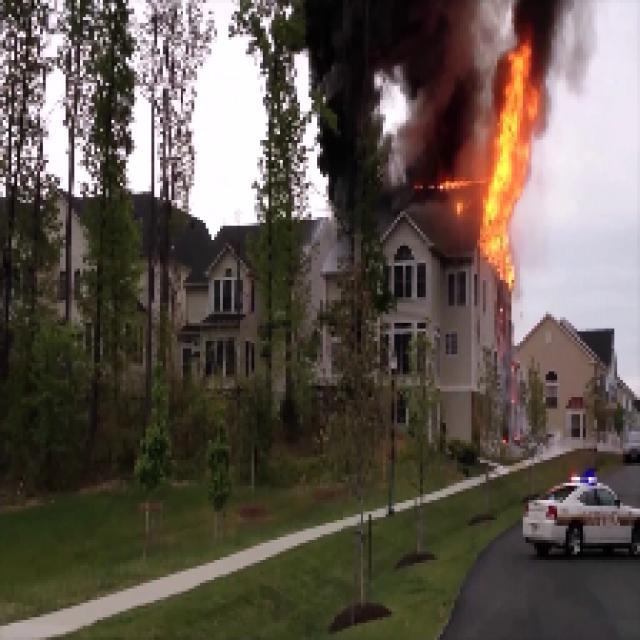Fire: (479, 35, 532, 272)
Smoke: (313, 6, 471, 188)
